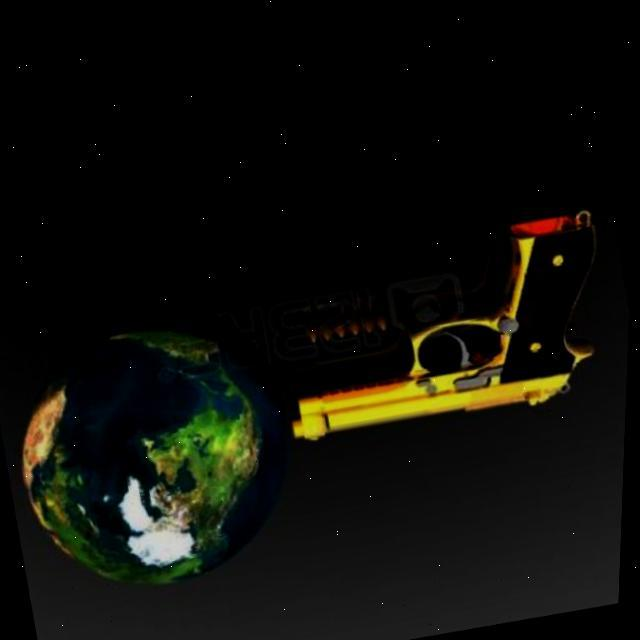gun: (260, 188, 634, 481)
